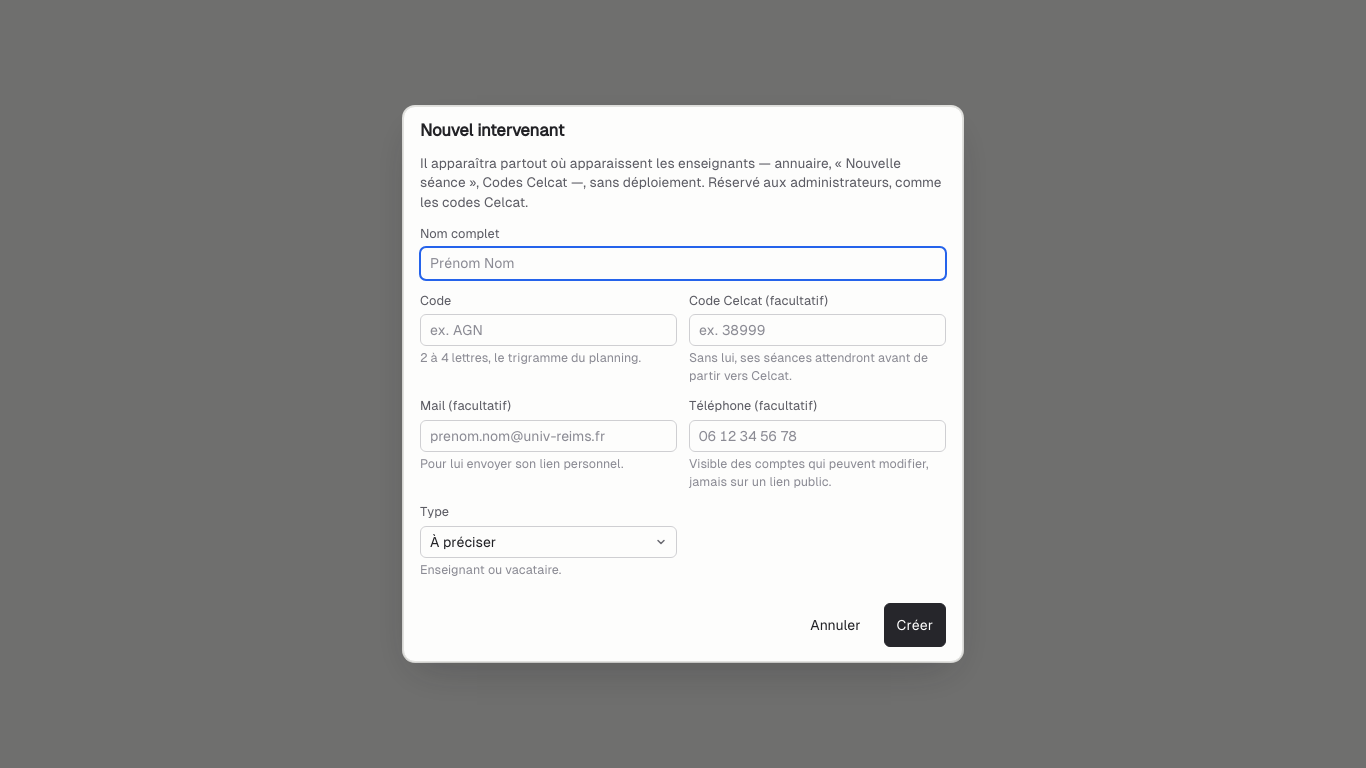
Scenario: NouvelIntervenantModal › valide la forme en direct, sans appeler la création
Submit the dialog, box [403,106,963,662]
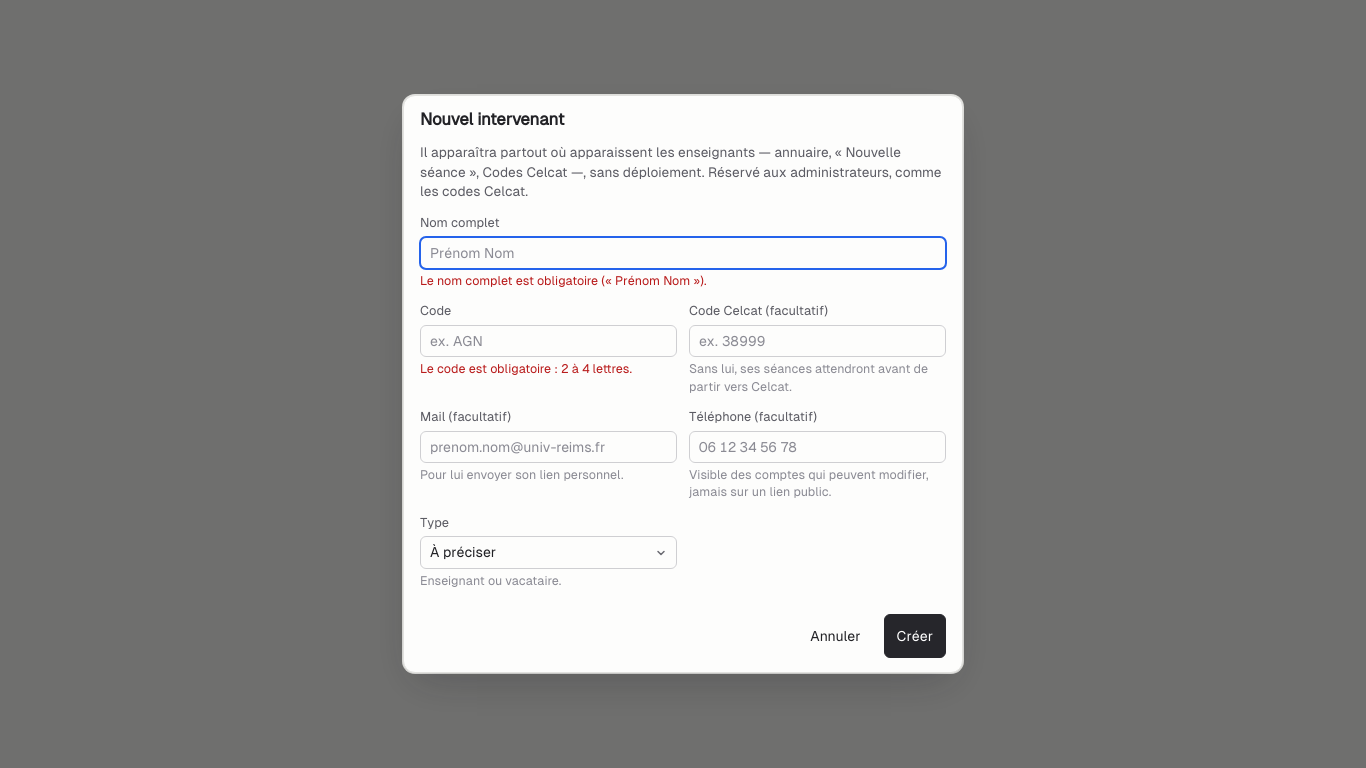
Expected: the text "Le code est obligatoire : 2 à 4 lettres." is shown, [420,362,632,376]
In the field labelled "Code": {"x": 548, "y": 341} [420,325,677,357], type "ab1"
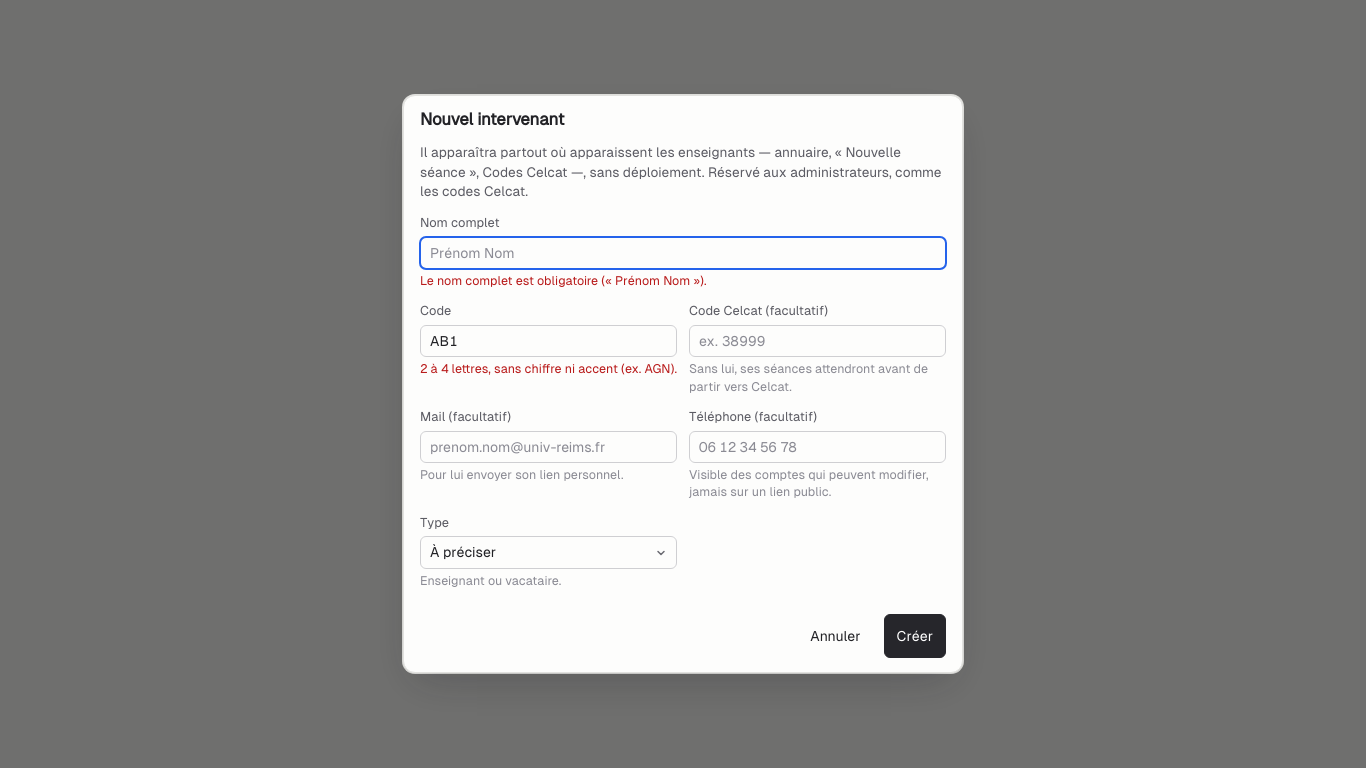
Expected: the text "2 à 4 lettres, sans chiffre ni accent (ex. AGN)." is shown, [420,361,677,379]
